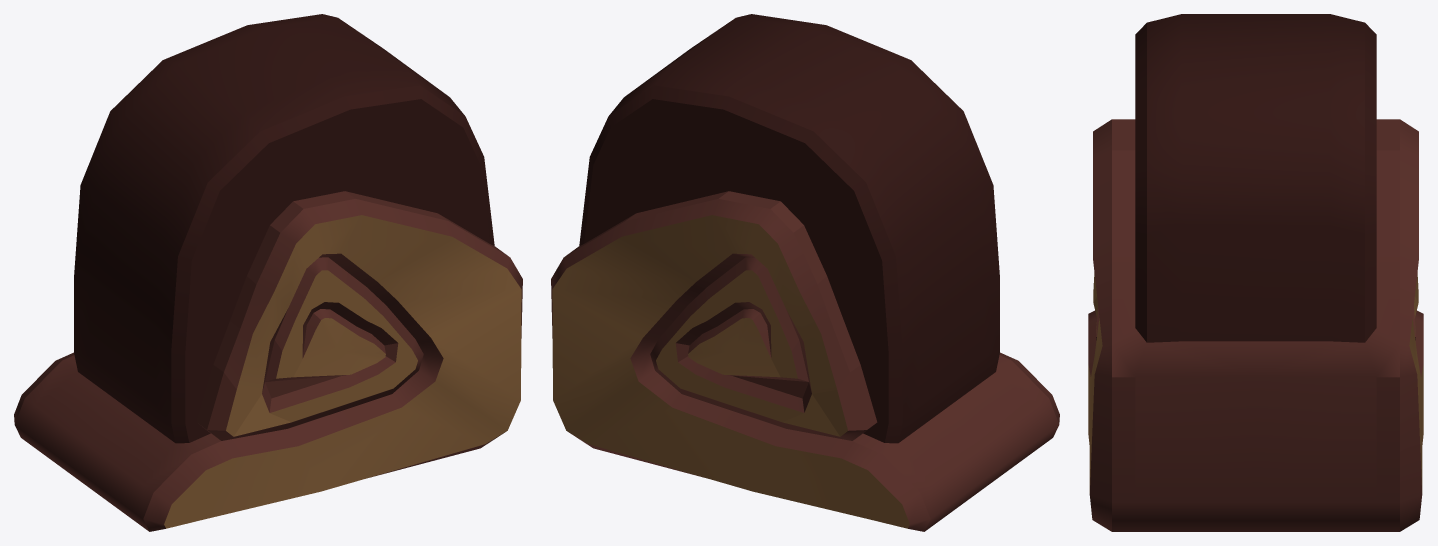
File: SM_pietra_3.fbx
3 renders of one model, left to right at view 1: azimuth 30°, elevation 25°; view 2: azimuth 150°, elevation 25°; view 3: azimuth 270°, elevation 25°, orthographic. The views are drawn at different scales.
Visible parts, largest first — view 1: SM_pietra_3; view 2: SM_pietra_3; view 3: SM_pietra_3.
Boxes of the visible parts, x1,y1,x2,y2 form: SM_pietra_3: (14,14,522,531); SM_pietra_3: (551,14,1059,531); SM_pietra_3: (1088,14,1423,531).
Bounding box in the file's own units: 1039 × 996 × 711.
